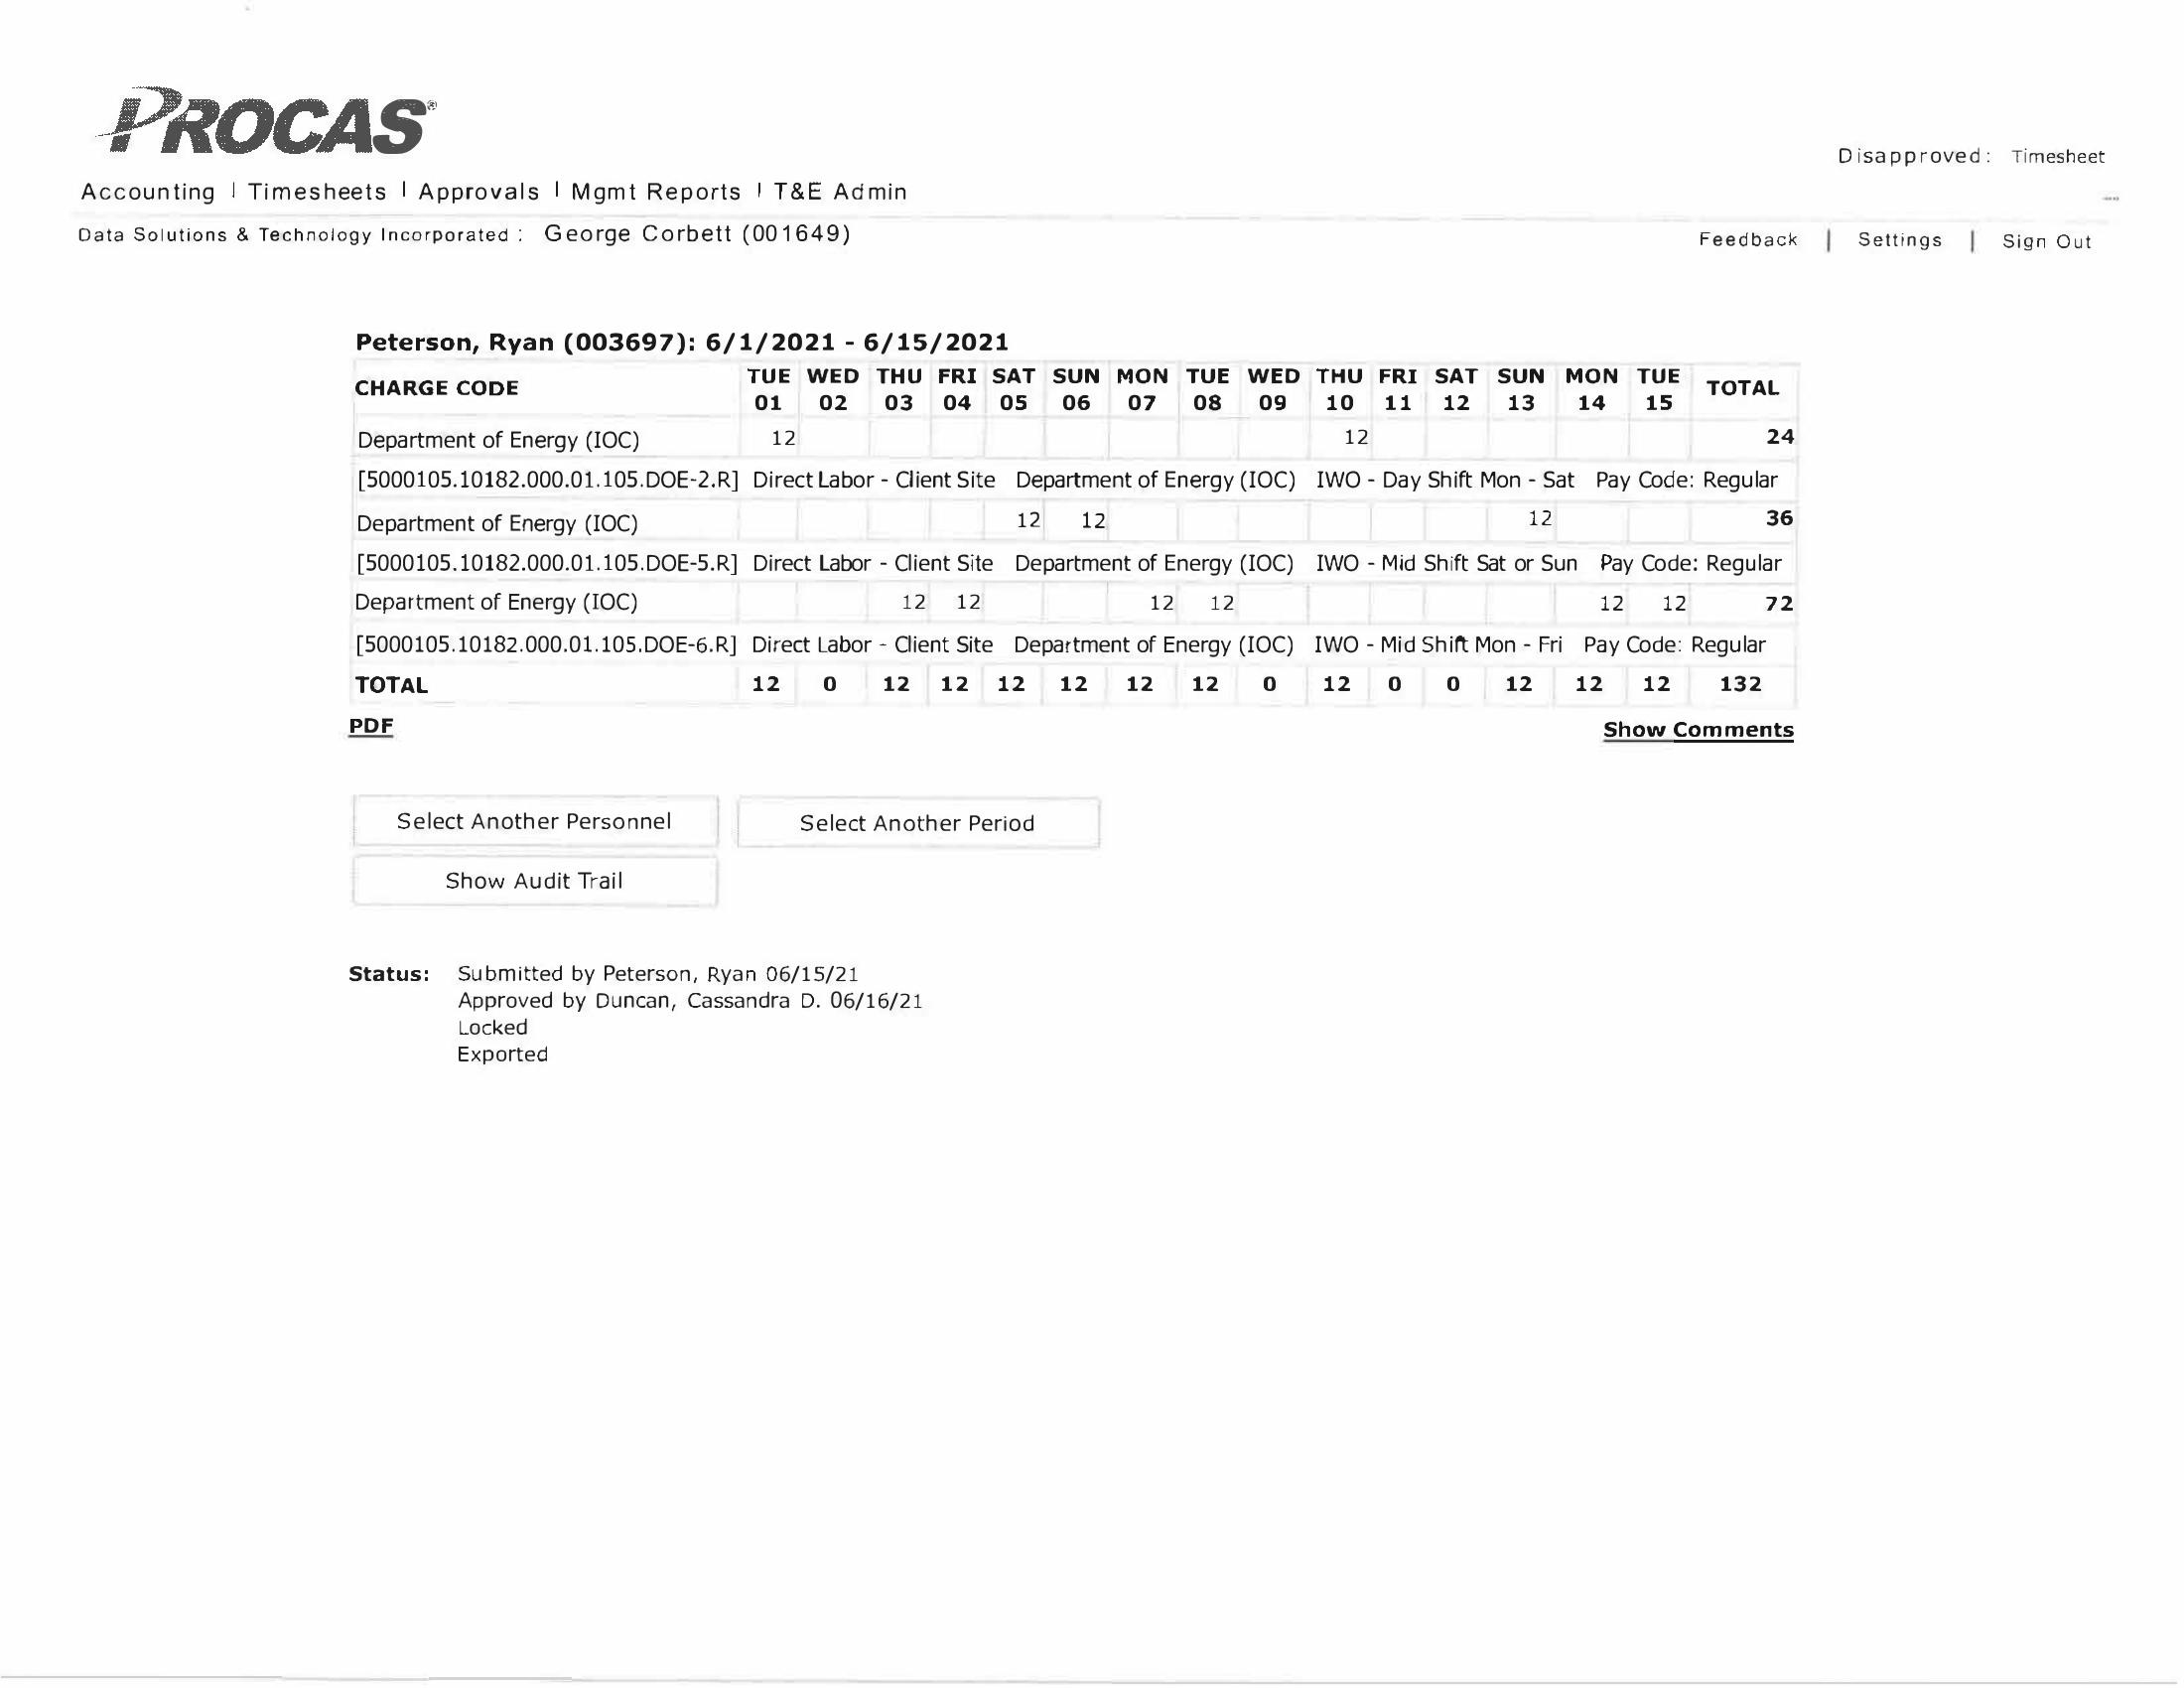table: (346, 356, 1810, 715)
